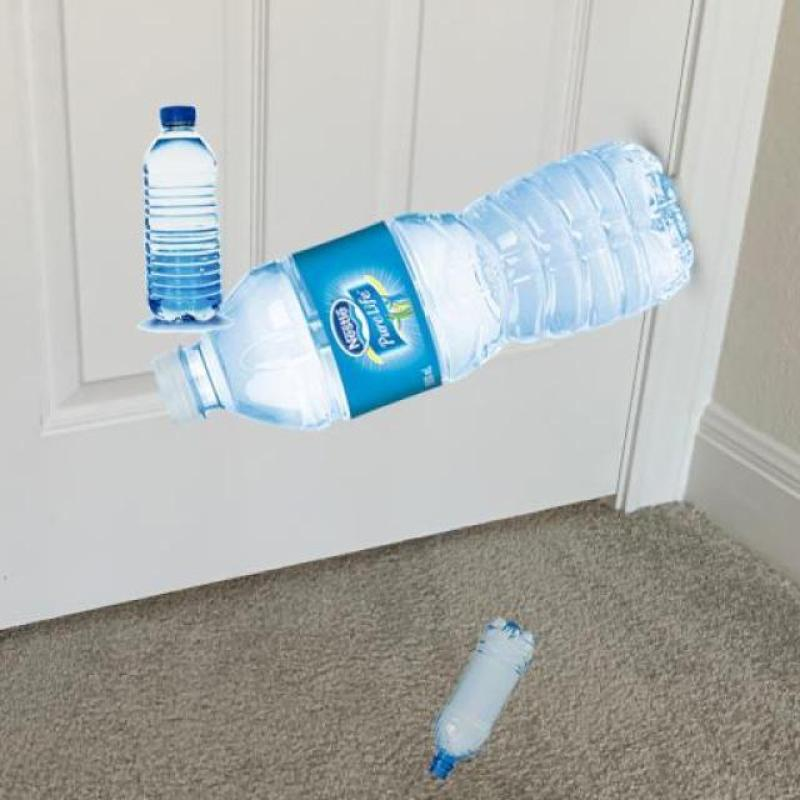botella: (150, 143, 699, 432), (140, 103, 232, 323), (430, 618, 535, 784)
